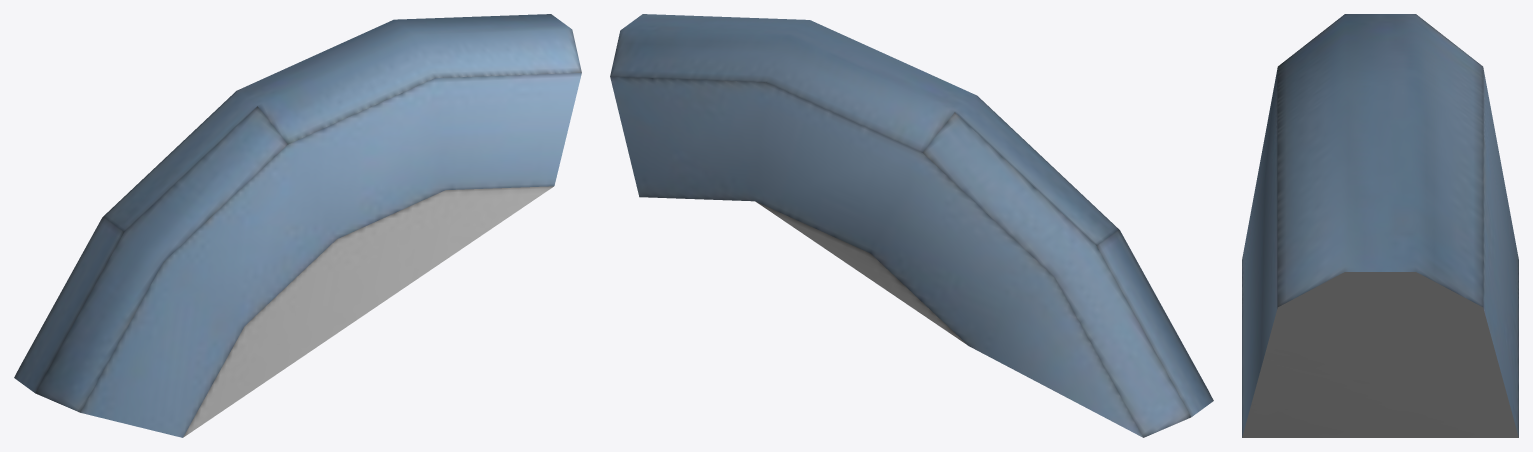
File: targetShard1.obj
3 views of the same model, side by side, from view 1: azimuth 30°, elevation 25°; view 2: azimuth 150°, elevation 25°; view 3: azimuth 270°, elevation 25° (orthographic). The views are drawn at different scales.
Parts seen in each view (by area): view 1: Object001; view 2: Object001; view 3: Object001.
Part boxes in pixels (x1=…): Object001: x1=14, y1=14, x2=581, y2=437; Object001: x1=610, y1=14, x2=1213, y2=437; Object001: x1=1242, y1=14, x2=1518, y2=437.
Size of the model in its own units: 51.8 by 29.15 by 13.76.
1 material, 1 textured.
